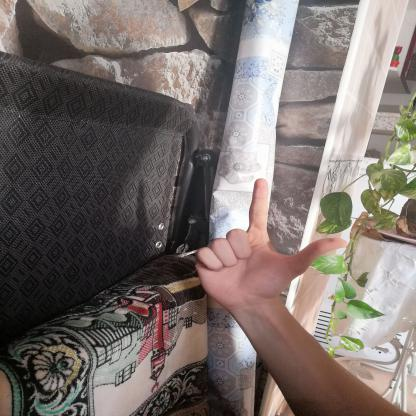LAAM: (183, 173, 355, 318)
